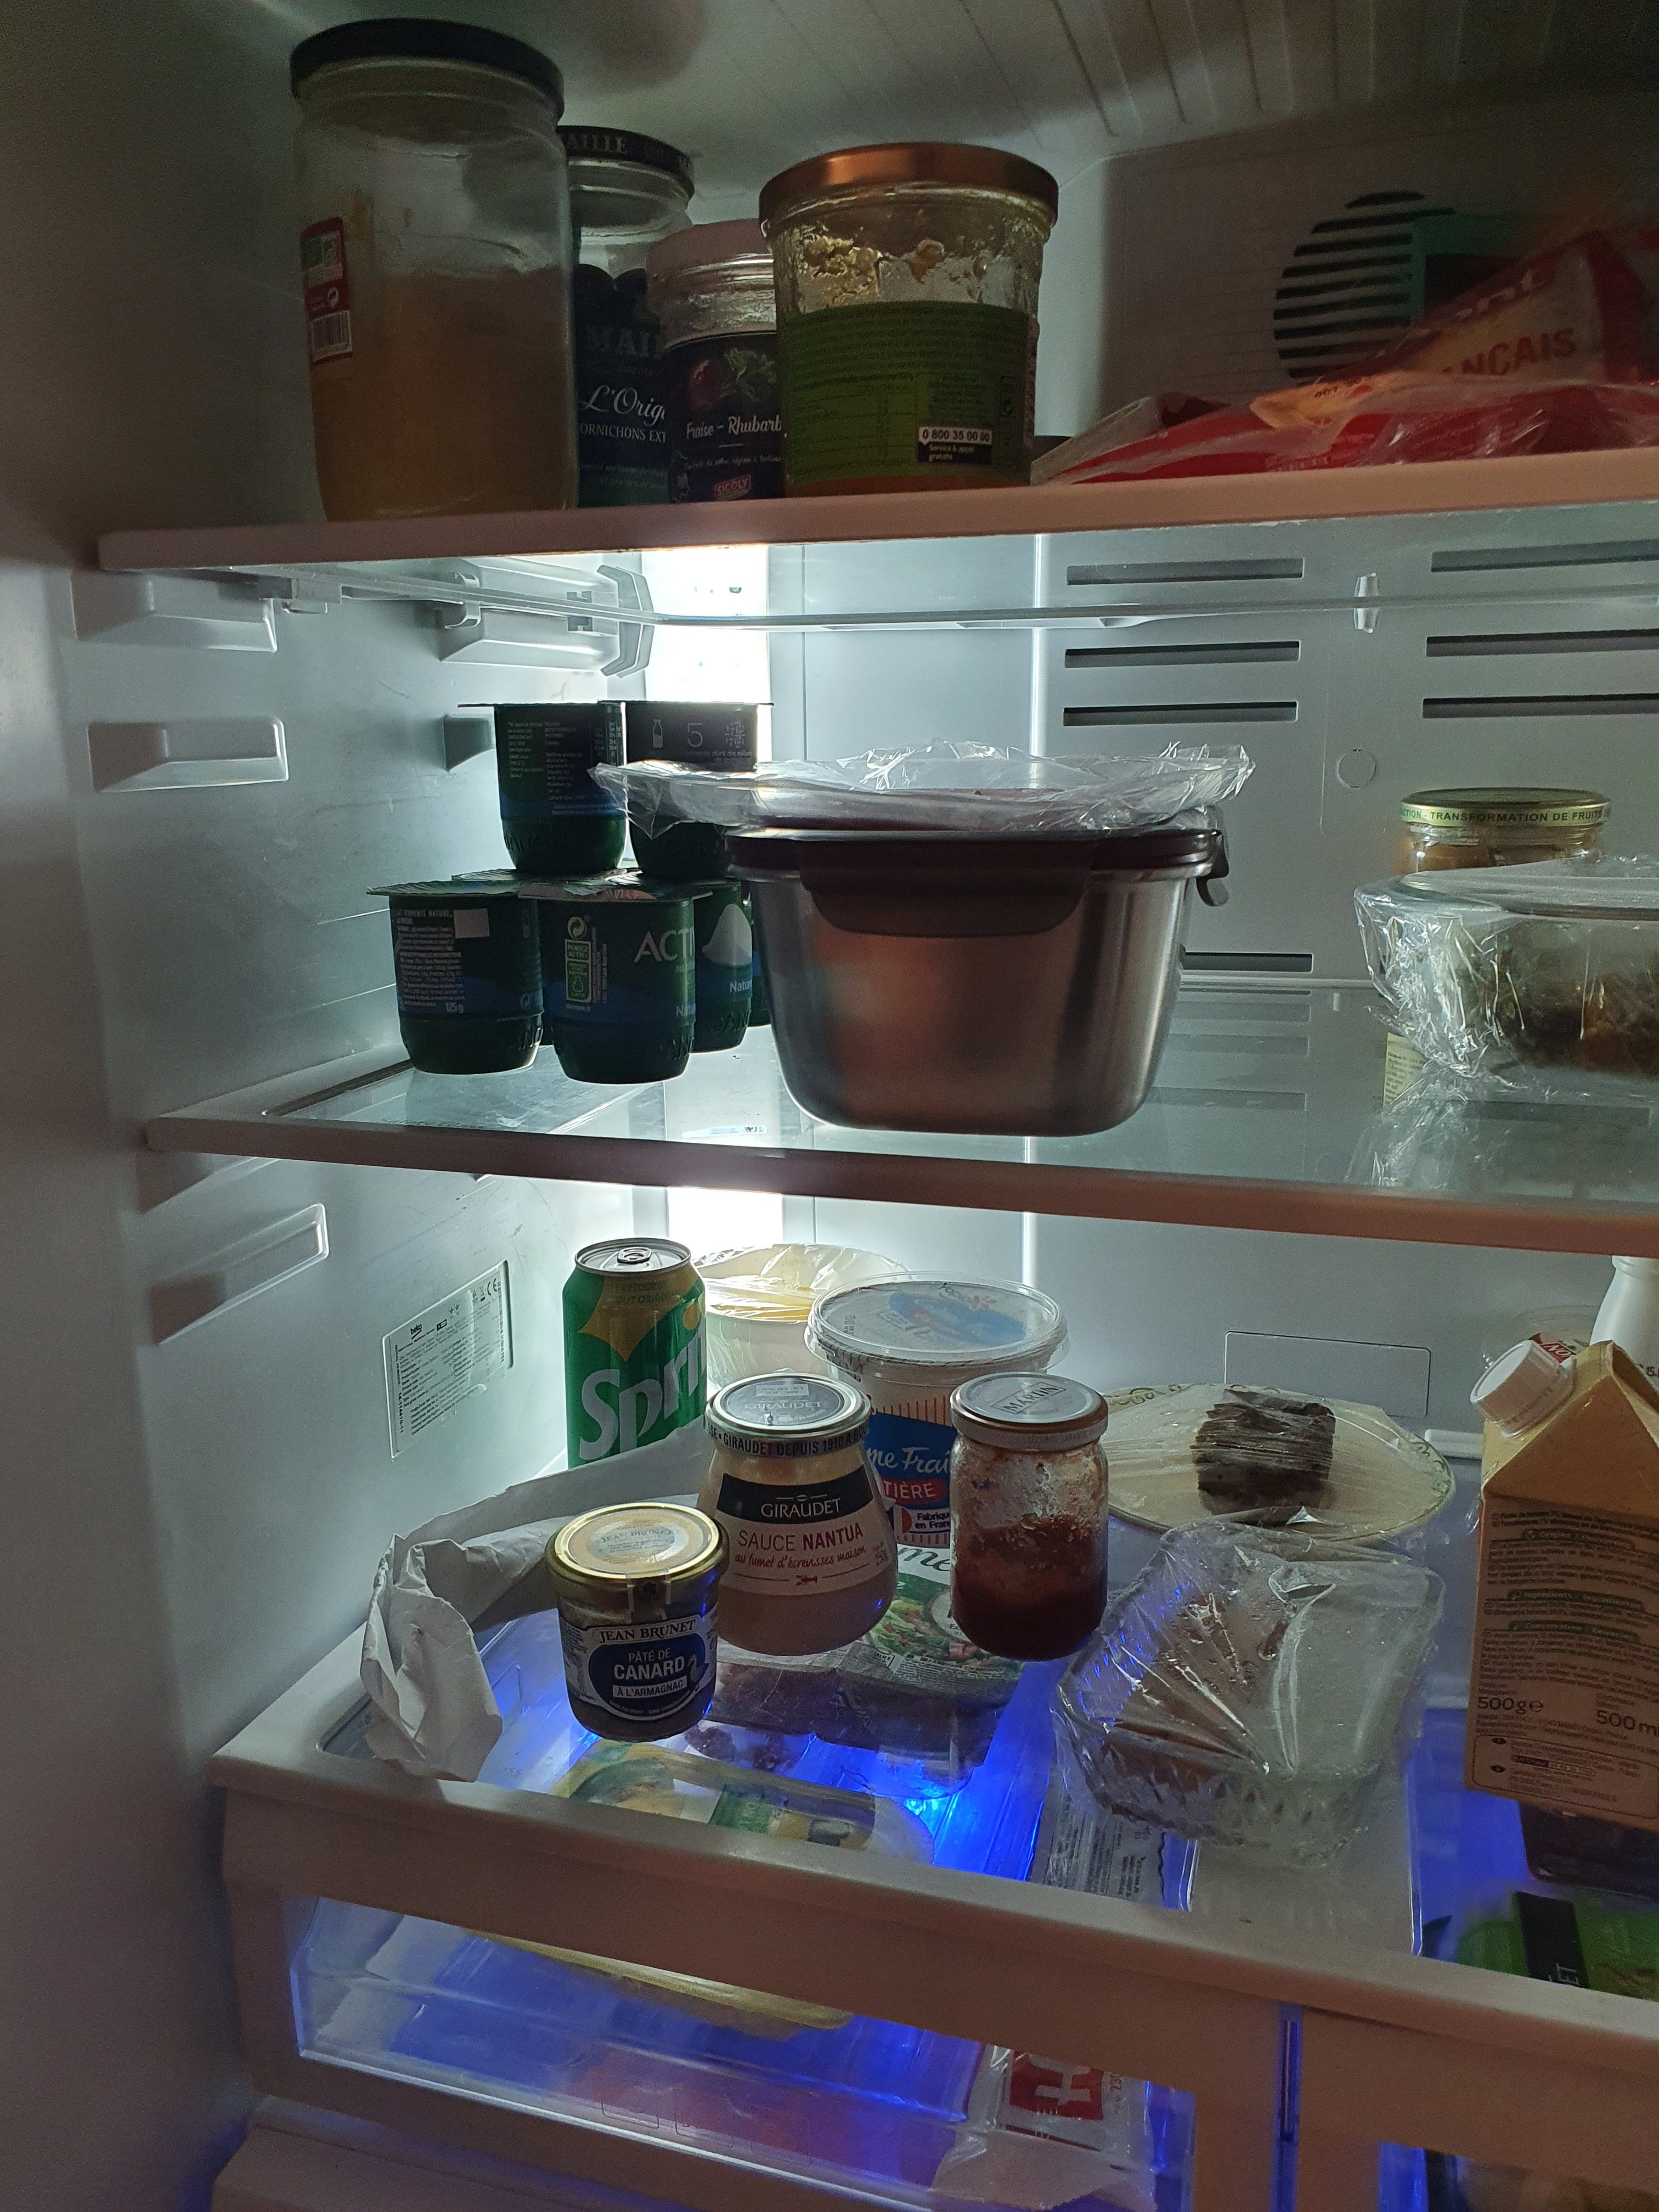bottle: (1598, 1258, 1659, 1390)
yoghurt: (528, 881, 690, 1089), (380, 880, 544, 1075), (471, 697, 629, 871), (629, 702, 767, 881), (687, 873, 755, 1054)
